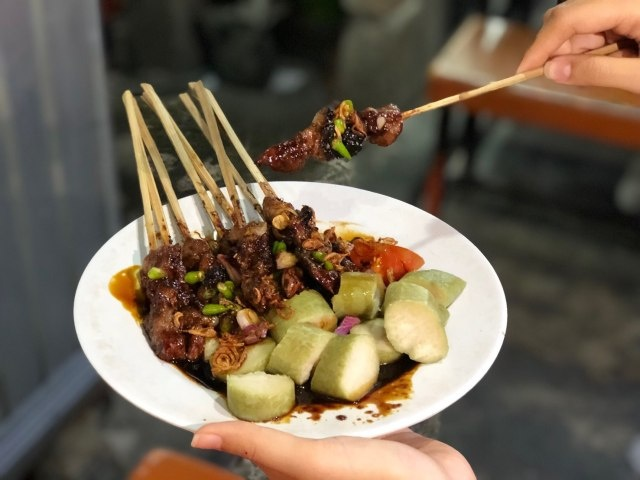sate_madura: (111, 83, 497, 397)
